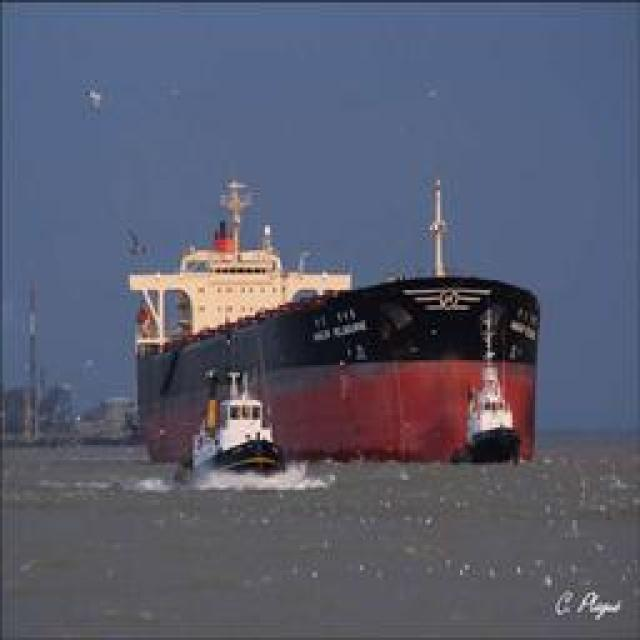ship2: (129, 167, 542, 466)
